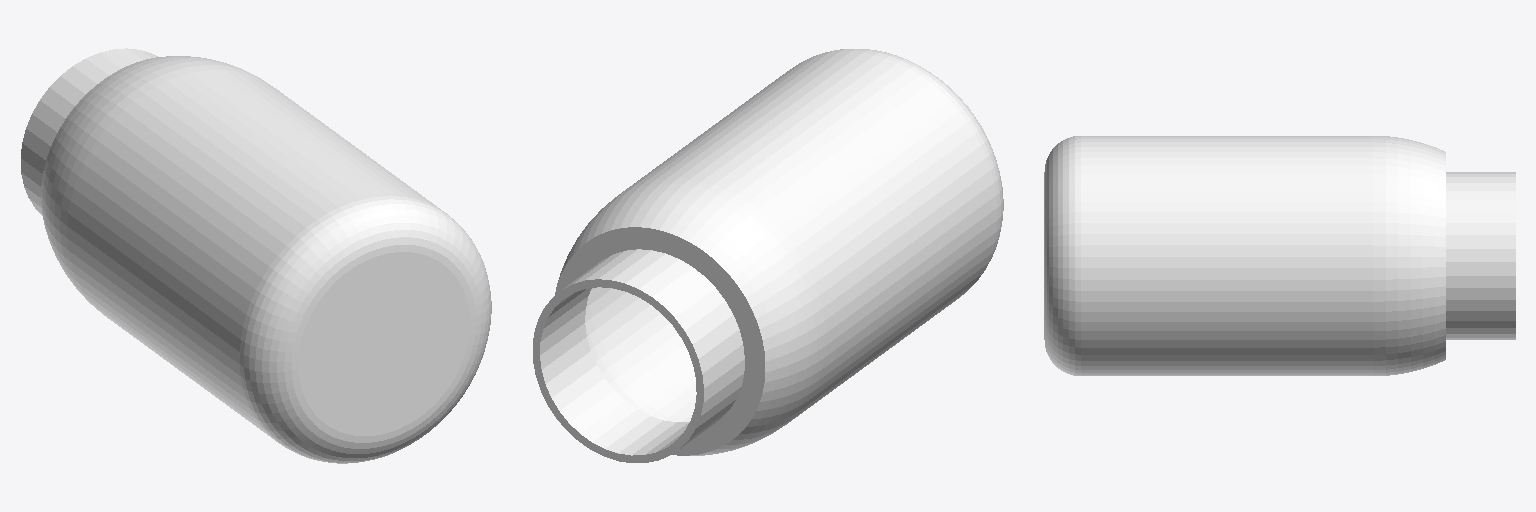
The robot description file, URDF, robot "tumbler":
<?xml version="1.0"?>

<robot name="tumbler">
  
  <link name="tumbler">


    <inertial>
      <origin xyz="0 0 0" />
      <mass value="0.2" />
      <inertia  ixx="1.0" ixy="0.0"  ixz="0.0"  iyy="1.0"  iyz="0.0"  izz="1.0" />
    </inertial>

    <visual>
      <origin xyz="0 0 0"/>
      <geometry>
        <mesh filename="mesh/water_bottle.obj" scale="1.0 1.0 1.0"/>
      </geometry>
      <material name="green">
	      <color rgba="1.0 1.0 1.0 1.0"/>
      </material>
    </visual>
    
    <collision>
      <origin xyz="0 0 0"/>
      <geometry>
        <mesh filename="mesh/water_bottle.obj" scale="1.0 1.0 1.0"/>
      </geometry>
    </collision>
  </link>


</robot>

--- Render facts (derived) ---
Views: 3 orthographic renders of the robot side by side, from view 1: azimuth 30°, elevation 25°; view 2: azimuth 150°, elevation 25°; view 3: azimuth 270°, elevation 25°.
Robot: tumbler — 1 links, 0 joints (none); root link tumbler; default pose: every joint at zero.
Visible links, largest first — view 1: tumbler; view 2: tumbler; view 3: tumbler.
Link boxes in pixels (x1,y1,x2,y2): tumbler: [21, 48, 491, 463]; tumbler: [533, 49, 1003, 462]; tumbler: [1044, 136, 1515, 375].
Size in the robot's own frame: 0.0659 by 0.129 by 0.066 metres.
Meshes: 1 distinct files referenced, 1 mesh visuals loaded (1 OBJ).